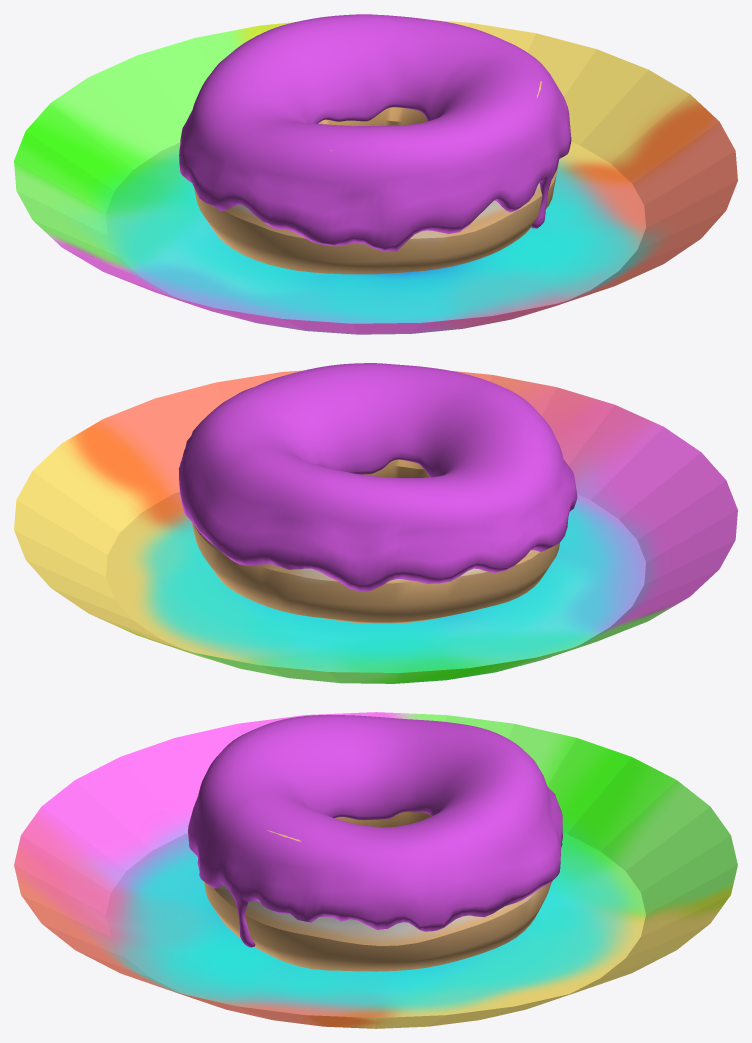
File: donut.glb
The picture shows the model from 3 angles, top to bottom: view 1: azimuth 30°, elevation 25°; view 2: azimuth 150°, elevation 25°; view 3: azimuth 270°, elevation 25°; orthographic projection.
Visible parts, largest first — view 1: Dish, Icing, Donut; view 2: Dish, Icing, Donut; view 3: Dish, Icing, Donut.
Part boxes in pixels (x1,y1,x2,y2): Dish: (14, 20, 737, 334); Icing: (179, 14, 571, 251); Donut: (194, 81, 558, 274); Dish: (14, 370, 737, 683); Icing: (178, 363, 577, 591); Donut: (191, 373, 559, 623); Dish: (14, 712, 737, 1028); Icing: (188, 715, 562, 947); Donut: (204, 812, 552, 971).
Size of the model in its own units: 5.1 by 1.15 by 5.1.
3 materials, 2 textured.
